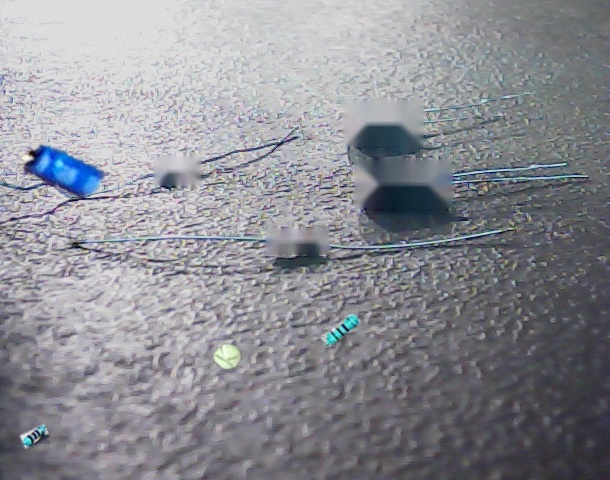capacitor: (21, 145, 105, 199), (213, 344, 241, 370)
resistor: (321, 312, 361, 347), (20, 425, 50, 448)
